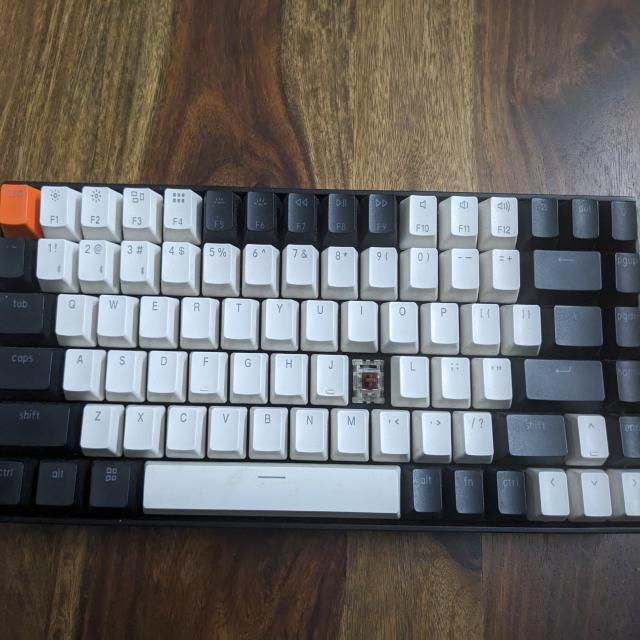C: (351, 356, 387, 401)
